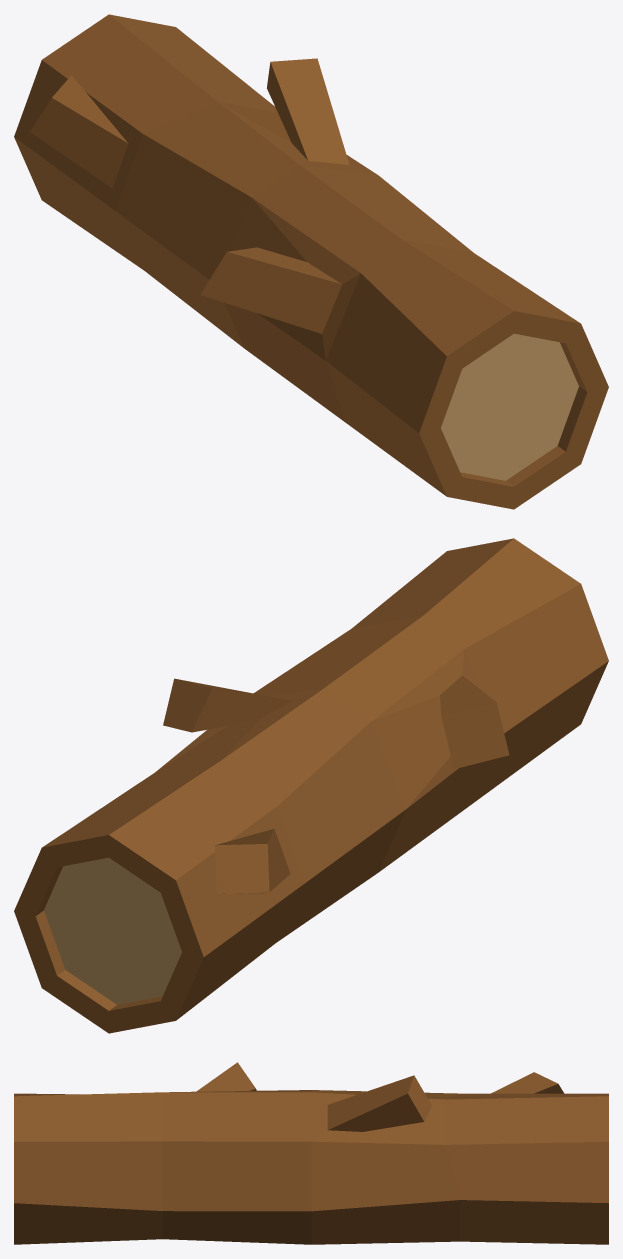
File: logkayu4.fbx
3 views of the same model, one above another, from view 1: azimuth 30°, elevation 25°; view 2: azimuth 150°, elevation 25°; view 3: azimuth 270°, elevation 25° (orthographic). The views are drawn at different scales.
Parts seen in each view (by area): view 1: log_6a; view 2: log_6a; view 3: log_6a.
Part boxes in pixels (left/top/right/bottom): log_6a: left=14, top=14, right=608, bottom=509; log_6a: left=14, top=538, right=608, bottom=1033; log_6a: left=14, top=1062, right=608, bottom=1244.
Bounding box in the file's own units: 70.52 × 64.6 × 197.
